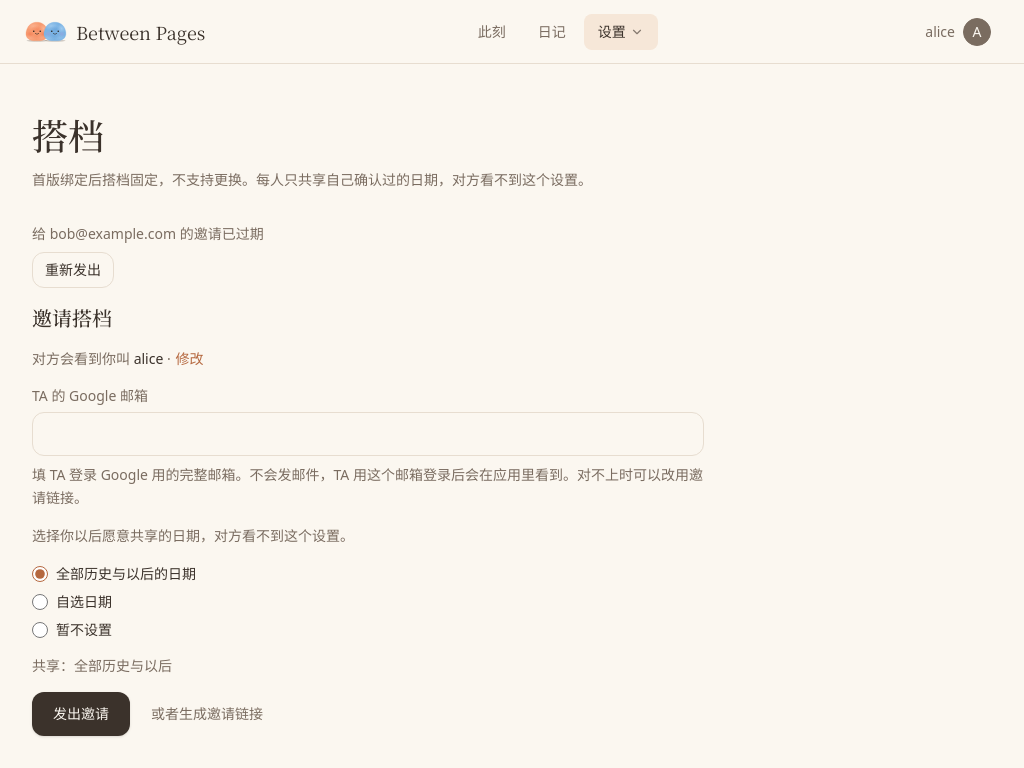
Scenario: inviting by email on 设置 → 搭档 › offers a re-send once an addressed invitation expired
Click the button "重新发出": (73, 270) [32,252,114,288]
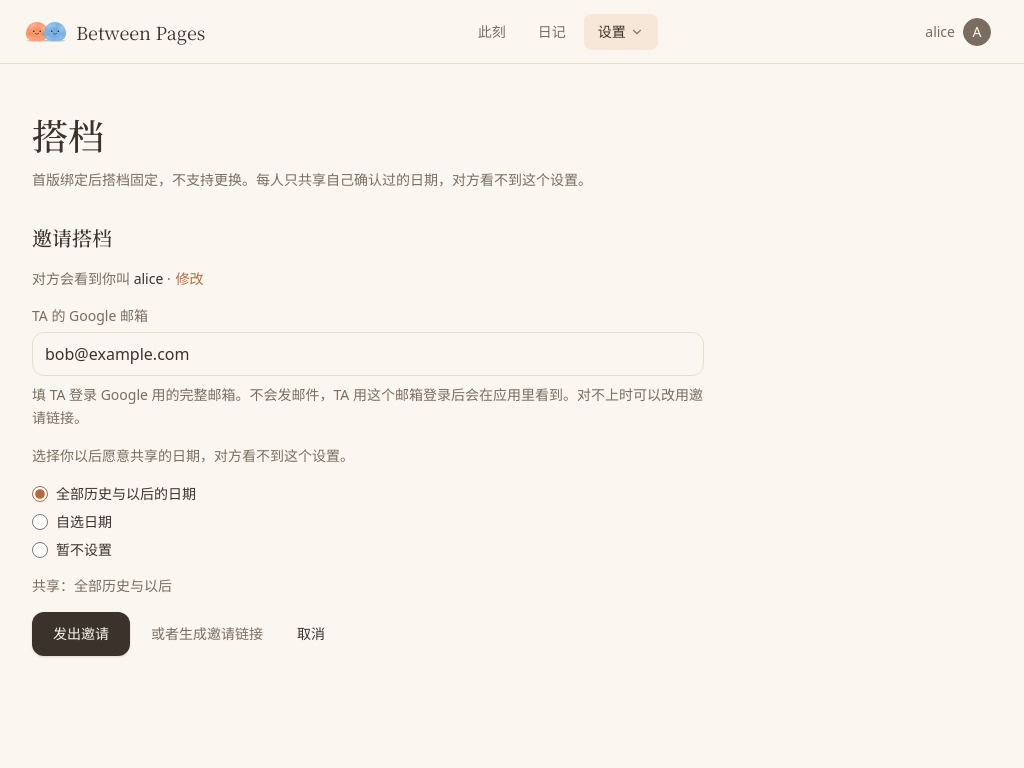
Expected: the field labelled "TA 的 Google 邮箱" holds "bob@example.com", [32,332,704,376]
